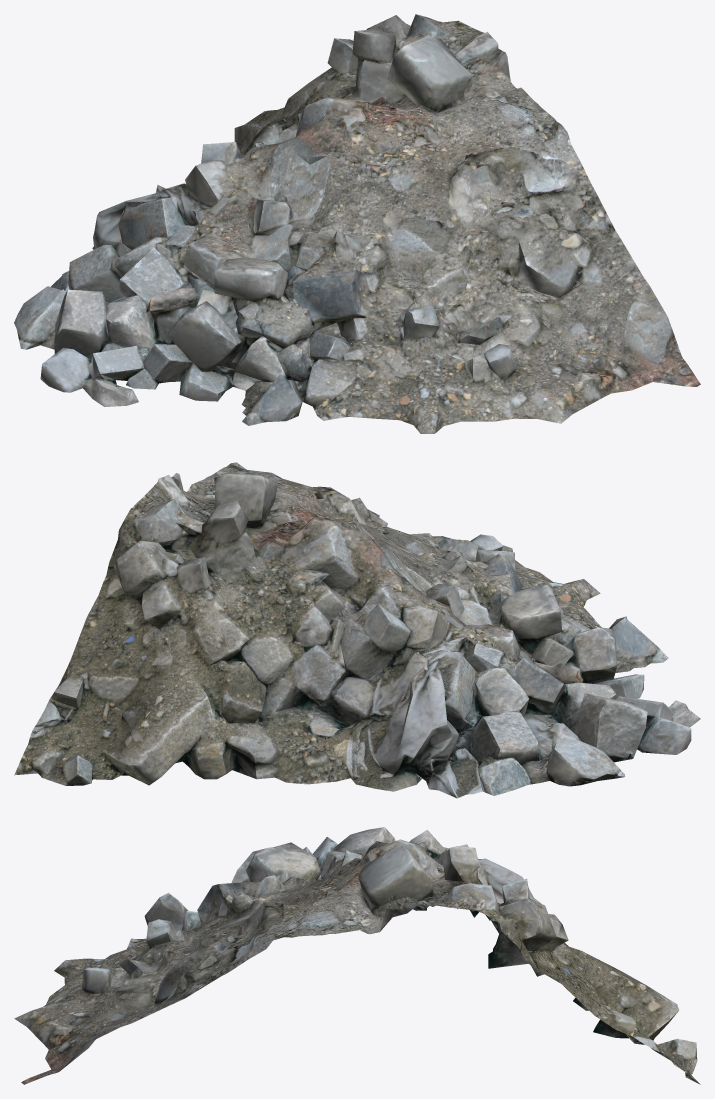
File: sm_Rubble_01_02.fbx
3 renders of one model, top to bottom at view 1: azimuth 30°, elevation 25°; view 2: azimuth 150°, elevation 25°; view 3: azimuth 270°, elevation 25°, orthographic. The views are drawn at different scales.
Visible parts, largest first — view 1: sm_Rubble_01_02_LOD0; view 2: sm_Rubble_01_02_LOD0; view 3: sm_Rubble_01_02_LOD0.
Boxes of the visible parts, <box> form: sm_Rubble_01_02_LOD0: <box>14,14,700,433</box>; sm_Rubble_01_02_LOD0: <box>14,462,700,798</box>; sm_Rubble_01_02_LOD0: <box>14,827,700,1084</box>.
Bounding box in the file's own units: 138 × 177 × 56.83.
